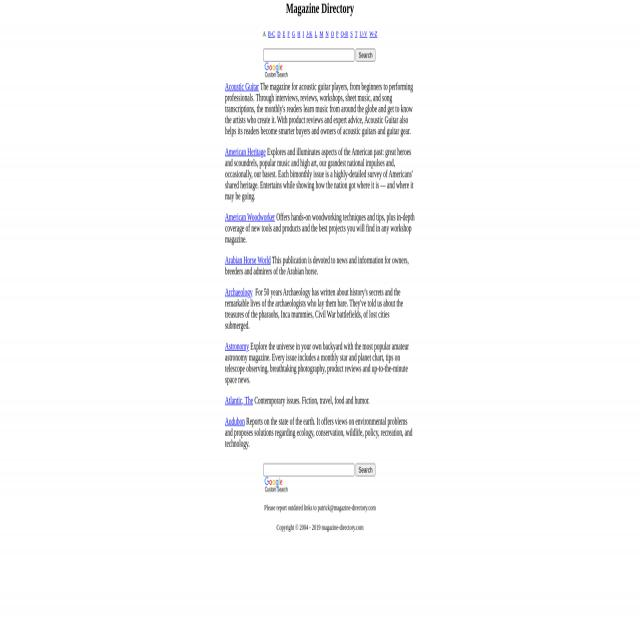button: (356, 48, 375, 62), (356, 463, 375, 476), (265, 476, 283, 488), (265, 62, 283, 74)
field: (264, 48, 354, 62), (264, 463, 354, 476)
